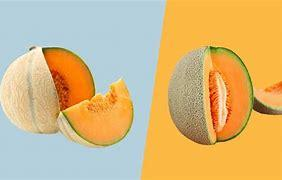Melon Ripe: (3, 43, 97, 135), (169, 47, 255, 146), (57, 80, 137, 146)
